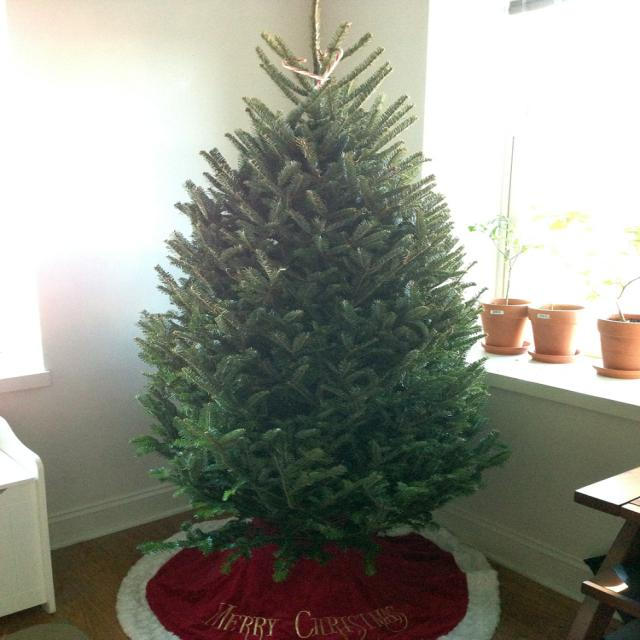Christmas-tree: (113, 14, 480, 550)
